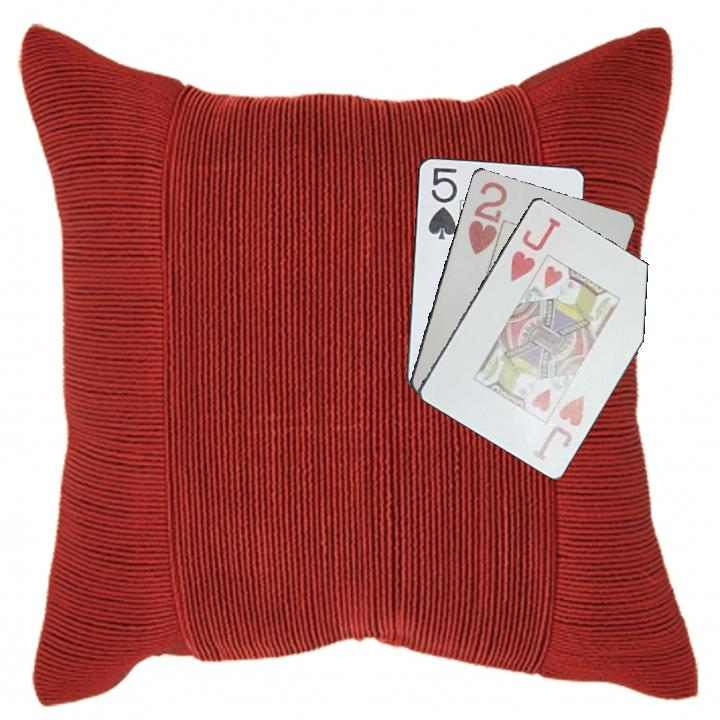2h: (464, 178, 510, 257)
5s: (424, 163, 459, 242)
Jh: (506, 213, 564, 285), (530, 391, 587, 463)
